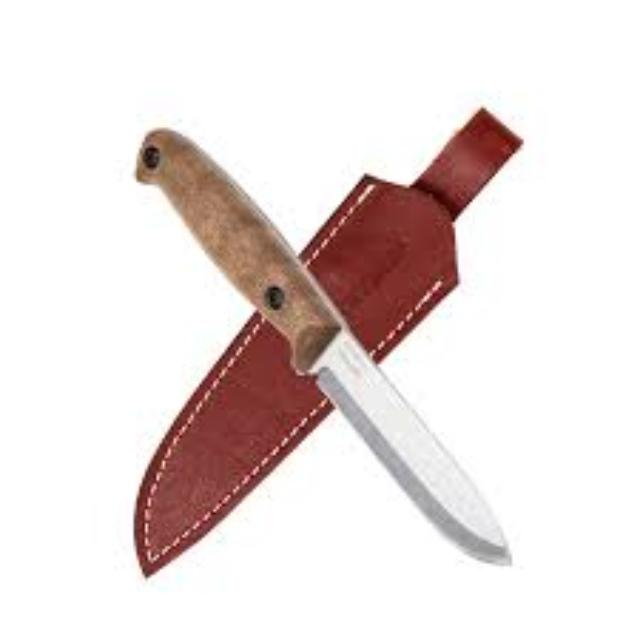Knife: (132, 108, 520, 574)
